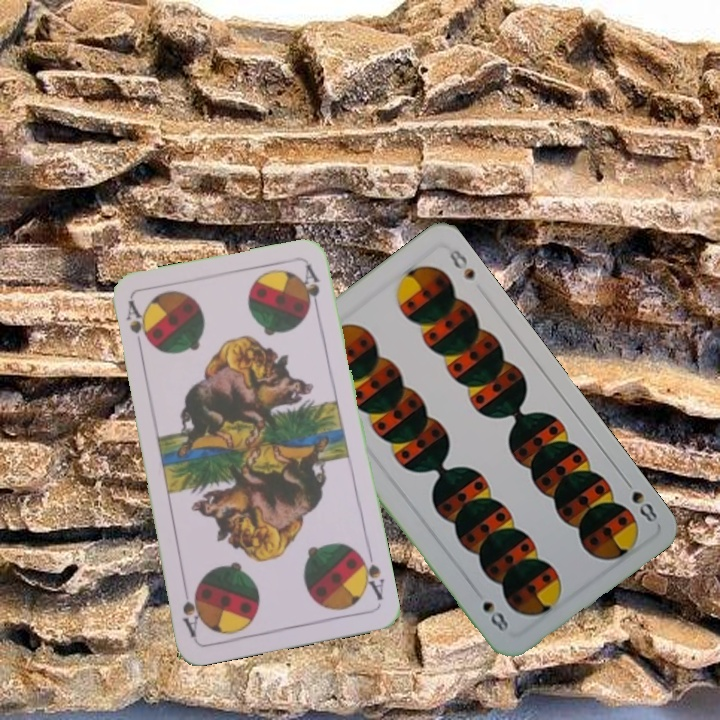S8: (619, 473, 660, 525)
SA: (354, 546, 387, 603), (122, 297, 151, 356)
